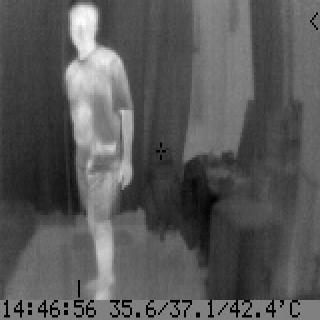Gun: (84, 138, 120, 178)
